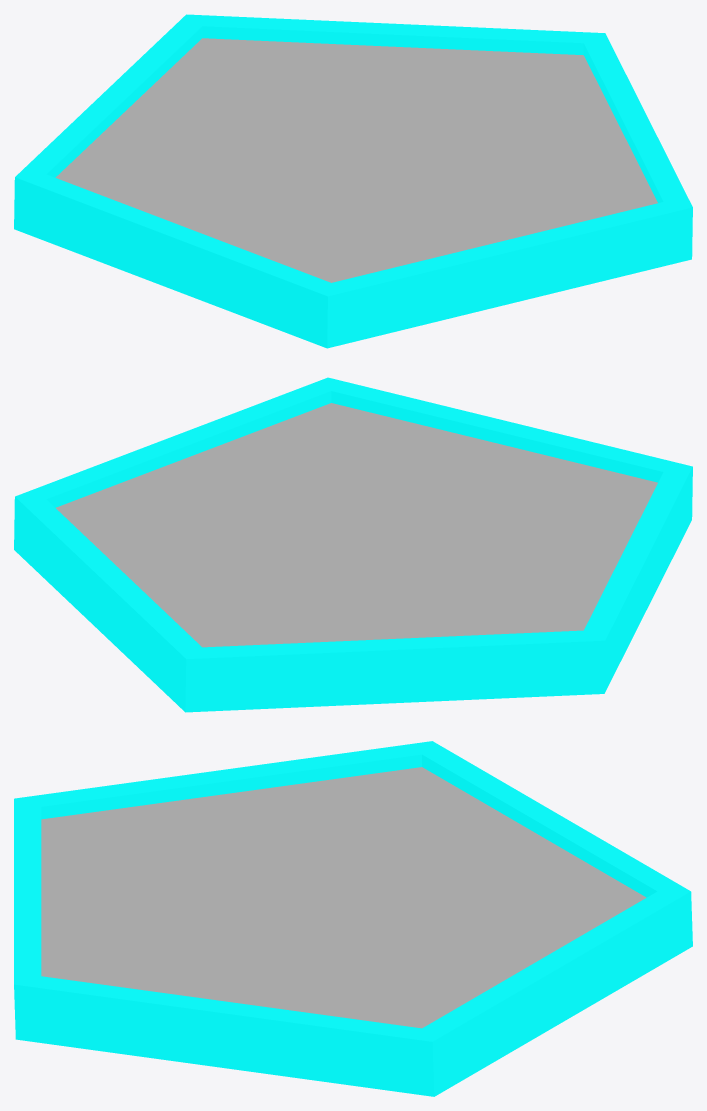
The model's file is SFI0210033.fbx.
3 views of the same model, one above another, from view 1: azimuth 30°, elevation 25°; view 2: azimuth 150°, elevation 25°; view 3: azimuth 270°, elevation 25° (orthographic). The views are drawn at different scales.
Parts seen in each view (by area): view 1: smSFI0210033; view 2: smSFI0210033; view 3: smSFI0210033.
Part boxes in pixels (left/top/right/bottom): smSFI0210033: left=14, top=14, right=692, bottom=348; smSFI0210033: left=14, top=377, right=692, bottom=712; smSFI0210033: left=14, top=741, right=692, bottom=1096.
Bounding box in the file's own units: 137 × 11.69 × 130.
